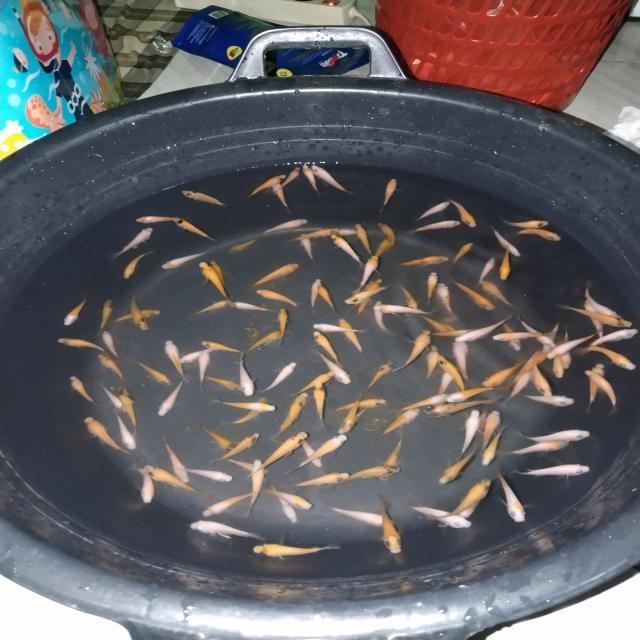nila: (242, 431, 312, 480), (426, 476, 494, 522), (282, 433, 353, 473), (139, 462, 212, 498), (554, 300, 634, 330), (490, 466, 530, 524), (576, 280, 634, 320), (426, 444, 483, 484), (203, 432, 267, 466), (326, 502, 399, 531), (407, 504, 473, 536), (424, 396, 512, 420), (372, 494, 406, 556), (80, 416, 129, 458), (449, 314, 517, 344), (504, 348, 550, 391), (180, 520, 268, 542), (377, 406, 427, 444), (392, 328, 434, 373), (107, 226, 165, 258), (372, 424, 407, 477), (448, 275, 493, 316), (308, 164, 362, 198), (192, 492, 262, 518), (156, 436, 192, 486), (331, 464, 401, 489), (250, 539, 342, 558), (582, 367, 620, 413), (112, 385, 148, 433), (330, 233, 373, 273), (275, 392, 312, 438), (499, 436, 576, 458), (156, 374, 191, 420), (226, 395, 274, 428), (476, 278, 522, 312), (171, 215, 223, 245), (256, 486, 316, 512), (285, 370, 340, 398), (306, 330, 344, 370), (52, 334, 110, 360), (478, 360, 528, 390), (511, 464, 594, 482), (194, 261, 233, 299), (242, 324, 288, 356), (261, 360, 303, 395), (435, 352, 469, 395), (250, 261, 302, 289), (513, 388, 579, 410), (510, 426, 595, 443), (314, 352, 354, 388), (196, 421, 238, 455), (174, 343, 238, 365), (178, 187, 234, 212), (208, 394, 278, 414), (267, 484, 302, 524), (582, 344, 638, 369), (352, 253, 382, 299), (337, 388, 367, 434), (164, 337, 191, 388), (446, 194, 484, 230), (335, 319, 373, 354), (328, 396, 388, 418), (450, 480, 483, 520), (118, 248, 159, 280), (128, 464, 157, 509), (54, 290, 90, 326), (291, 432, 327, 468), (577, 300, 607, 343), (242, 172, 288, 200), (172, 465, 236, 485), (494, 210, 552, 232), (417, 314, 464, 341), (68, 374, 102, 411), (366, 354, 394, 398), (488, 224, 524, 258), (368, 300, 401, 337), (481, 424, 508, 469), (255, 216, 310, 238), (308, 381, 333, 429), (391, 390, 451, 410), (405, 219, 468, 238), (94, 380, 130, 413), (200, 370, 242, 398), (588, 363, 610, 416), (264, 178, 296, 214), (444, 386, 508, 404), (251, 288, 301, 311), (108, 308, 165, 328), (134, 358, 172, 388), (516, 318, 554, 348), (346, 279, 378, 314), (448, 339, 474, 382), (112, 414, 142, 451), (232, 356, 258, 398), (274, 164, 310, 194), (288, 224, 342, 244), (98, 328, 128, 364), (586, 328, 640, 348), (291, 471, 354, 488), (161, 250, 217, 269), (508, 226, 567, 244), (459, 408, 482, 454), (505, 368, 537, 400), (184, 300, 235, 320), (95, 352, 125, 386), (495, 318, 525, 352), (126, 292, 150, 334), (222, 456, 272, 476), (530, 360, 555, 400), (358, 277, 384, 315), (434, 281, 460, 319), (308, 322, 369, 338), (376, 176, 400, 216), (197, 337, 242, 358), (395, 253, 450, 270), (300, 161, 325, 198), (413, 198, 452, 221), (207, 256, 231, 293), (352, 221, 376, 256), (496, 242, 517, 282), (490, 330, 560, 342), (540, 320, 564, 355), (316, 280, 340, 314), (225, 298, 270, 316), (448, 242, 479, 268), (130, 213, 188, 226), (99, 297, 118, 336), (484, 409, 501, 452), (373, 220, 399, 248), (478, 256, 499, 290), (424, 343, 442, 382), (376, 304, 434, 316), (560, 326, 576, 369), (547, 348, 569, 379), (195, 348, 212, 388), (298, 234, 318, 266), (426, 328, 481, 339), (225, 238, 260, 255), (275, 306, 291, 342), (434, 371, 452, 402), (400, 284, 418, 311), (476, 406, 490, 440), (424, 270, 436, 306), (308, 282, 320, 313)
